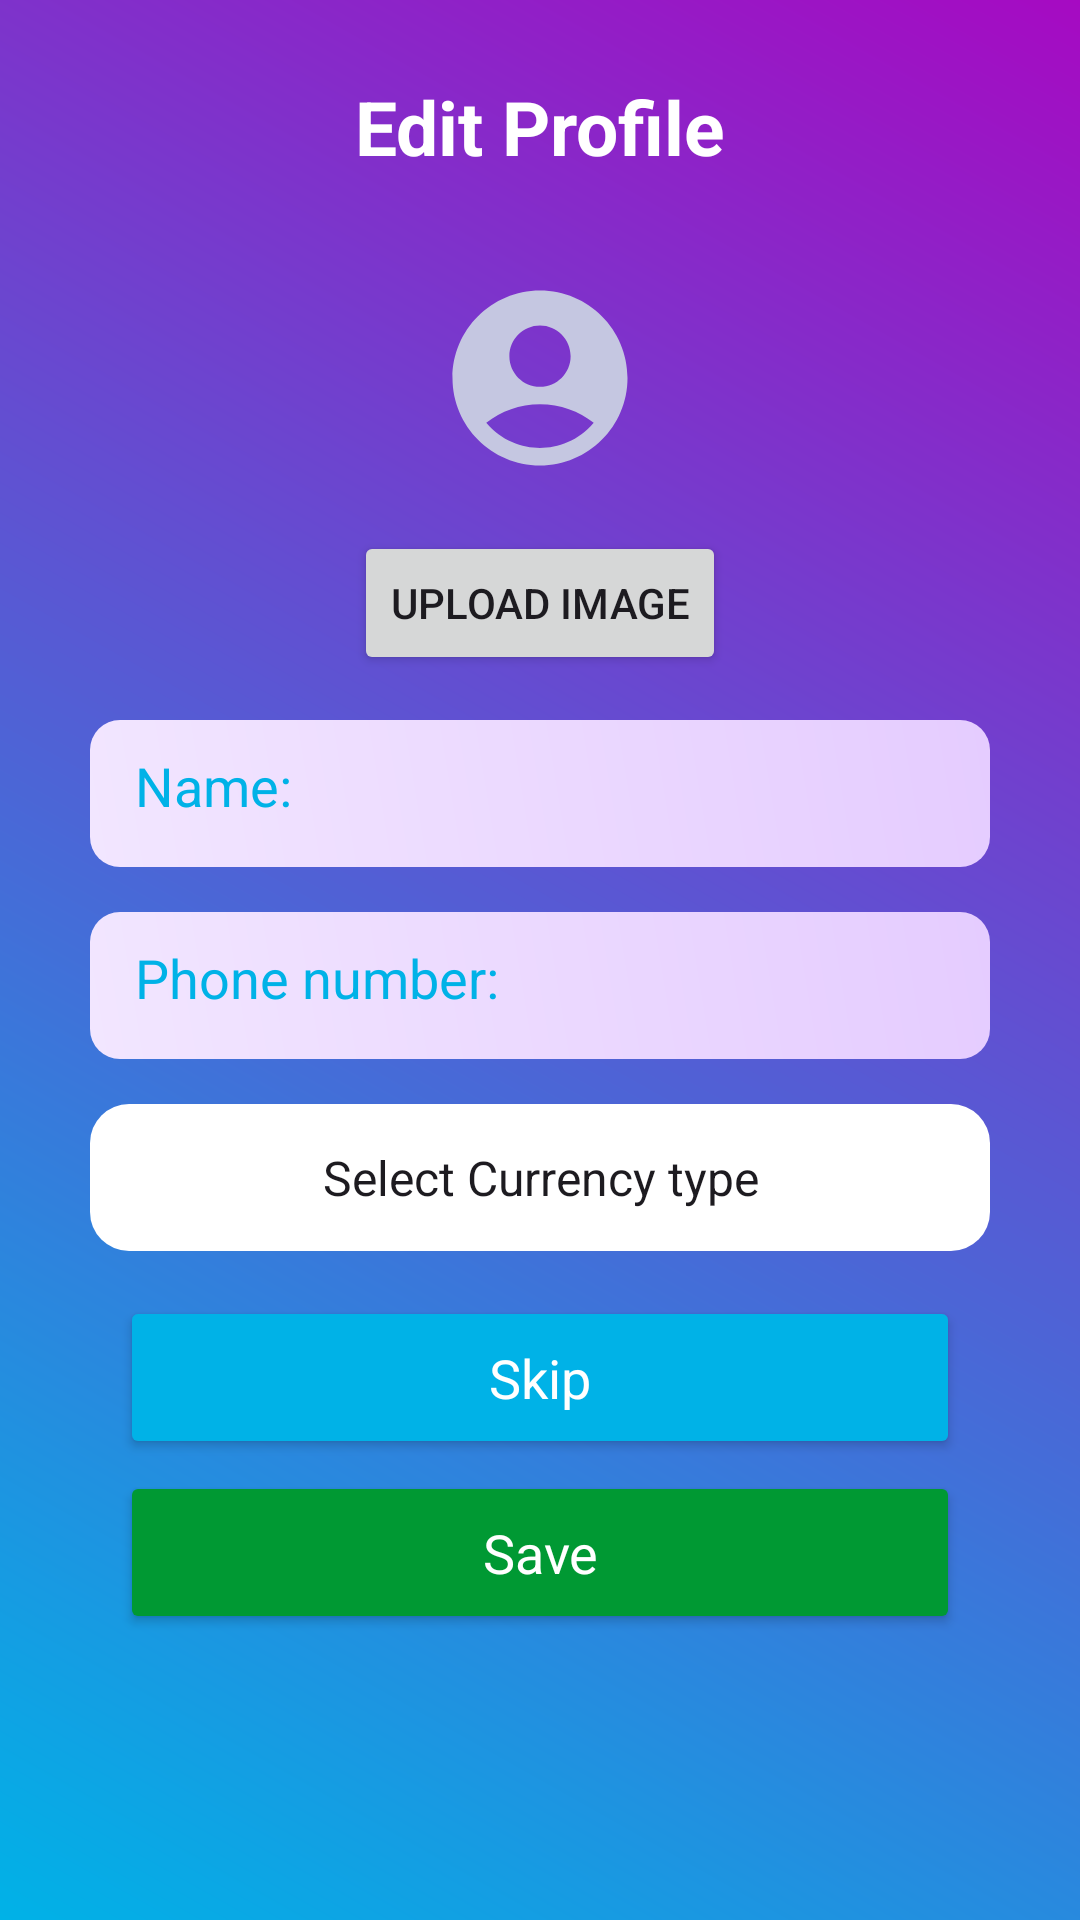

Icons on this 1080 x 1920 Android screen, each with its box as bbox=(x1, y1, x2, y2):
user: bbox=(452, 290, 628, 466)
